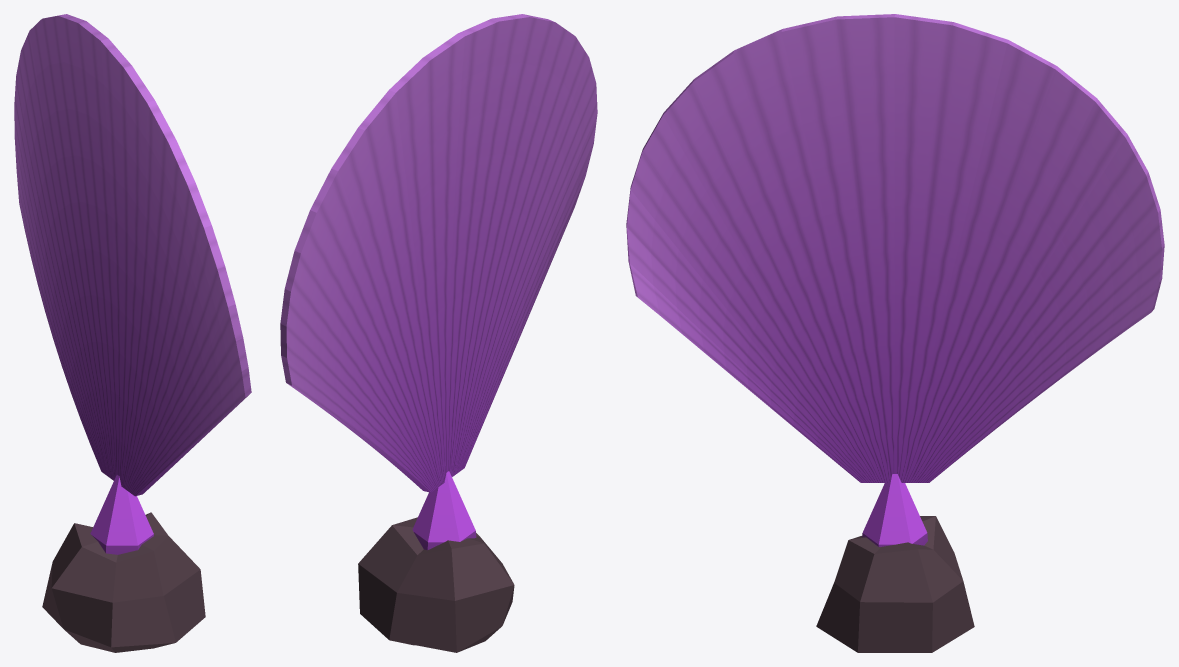
File: SeaFan.glb
3 views of the same model, side by side, from view 1: azimuth 30°, elevation 25°; view 2: azimuth 150°, elevation 25°; view 3: azimuth 270°, elevation 25° (orthographic). The views are drawn at different scales.
Visible parts, largest first — view 1: SeaFan; view 2: SeaFan; view 3: SeaFan.
Boxes of the visible parts, <box> form: SeaFan: <box>14,14,251,652</box>; SeaFan: <box>280,14,597,652</box>; SeaFan: <box>626,14,1164,652</box>.
Size of the model in its own units: 0.7066 by 2.94 by 2.35.
1 material, 1 textured.
